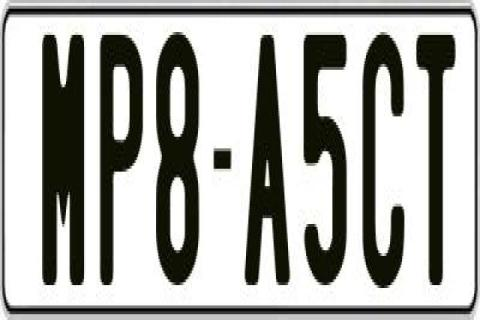0: (301, 29, 352, 282), (156, 29, 200, 294)
A: (243, 32, 287, 282)
C: (362, 29, 406, 285)
M: (42, 32, 86, 296)
P: (98, 35, 146, 299)
T: (416, 27, 462, 286)
